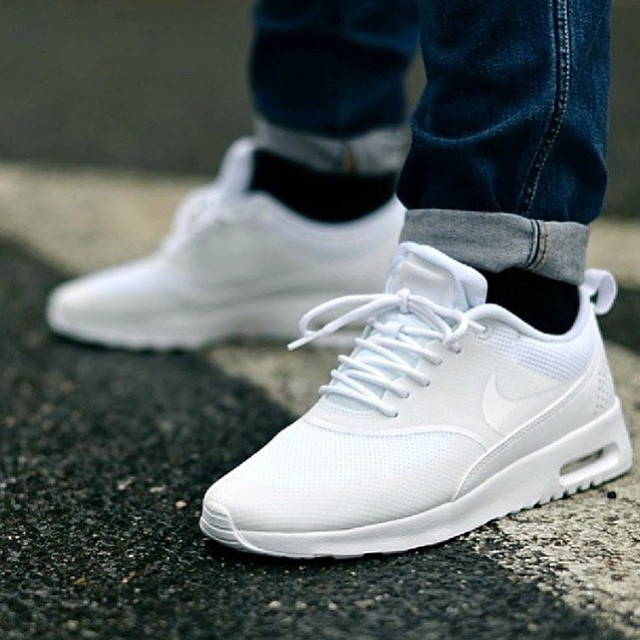sneaker: (176, 220, 640, 574), (28, 131, 423, 365)
